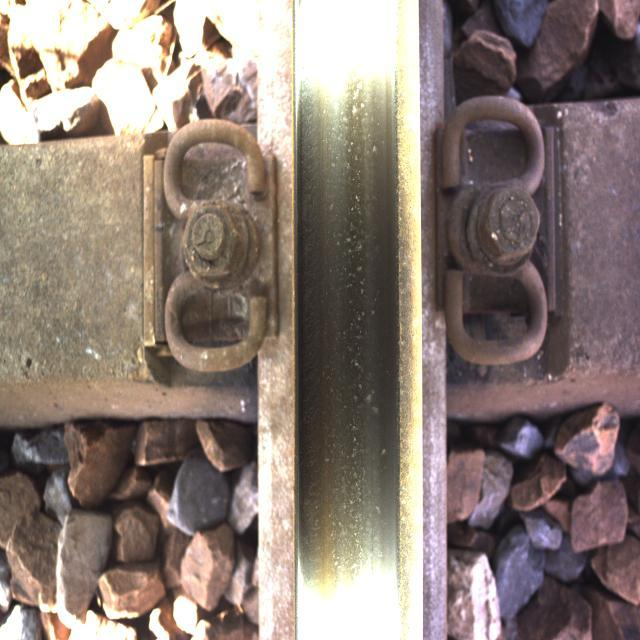break: (300, 75, 404, 537)
